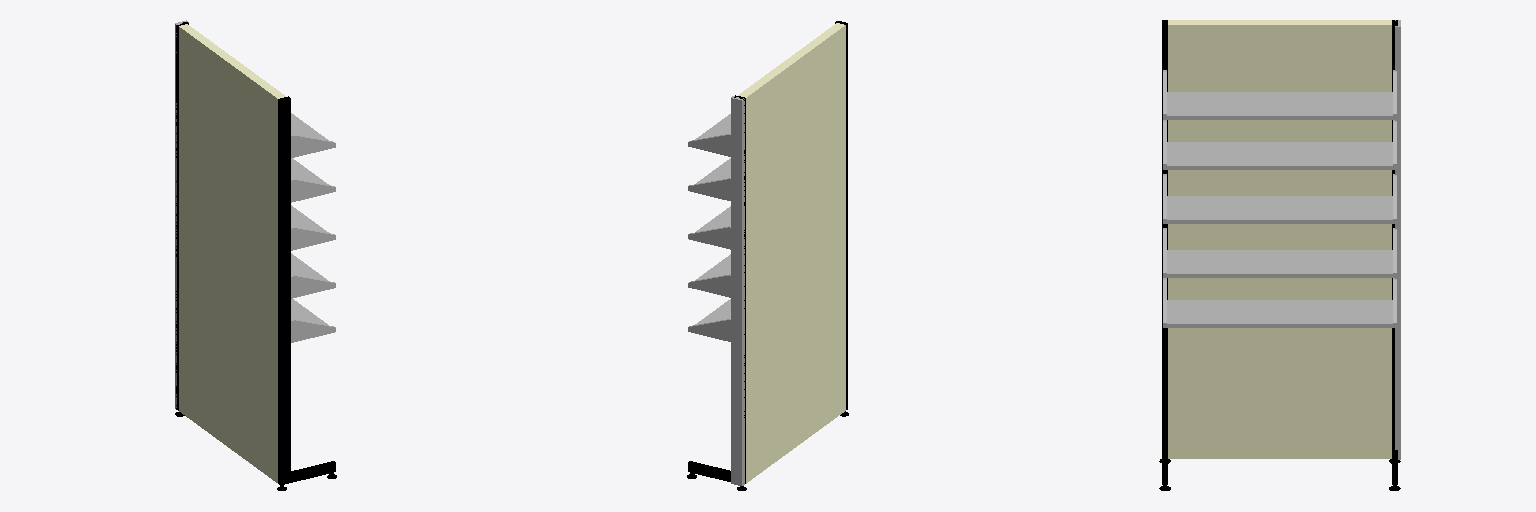
robot.urdf — bariera-1200-right_static:
<?xml version="1.0"?>
<robot name="bariera-1200-right_static"
       xmlns:xi="http://www.w3.org/2001/XInclude"
       >
  <gazebo>
    <static>true</static>
  </gazebo>
  <link name="nil_link">
    <visual>
      <origin xyz="0 0 0" rpy="0 -0 0"/>
      <geometry>
        <mesh filename="model://bariera-1200-right/meshes/nil_link_mesh.dae" scale="1 1 1" />
      </geometry>
    </visual>
    <collision>
      <origin xyz="0 0 0" rpy="0 -0 0"/>
      <geometry>
        <mesh filename="model://bariera-1200-right/meshes/nil_link_mesh.dae" scale="1 1 1" />
      </geometry>
    </collision>
    <inertial>
      <mass value="0.001" />
      <origin xyz="0 0 0" rpy="0 -0 0"/>
      <inertia ixx="1e-03" ixy="0" ixz="0" iyy="1e-03" iyz="0" izz="1e-03"/>
    </inertial>
  </link>
  <gazebo reference="nil_link">
    <mu1>0.9</mu1>
    <mu2>0.9</mu2>
  </gazebo>
</robot>

--- Render facts (derived) ---
The picture shows the robot from 3 angles, left to right: view 1: azimuth 30°, elevation 25°; view 2: azimuth 150°, elevation 25°; view 3: azimuth 270°, elevation 25°; orthographic projection.
Model bariera-1200-right_static with 1 links and 0 joints (none), rooted at nil_link, posed all joints at 0.
Visible links, largest first — view 1: nil_link; view 2: nil_link; view 3: nil_link.
Link boxes in pixels (x1,y1,x2,y2): nil_link: (175,20,336,490); nil_link: (687,21,848,490); nil_link: (1159,20,1400,490).
Bounding box of the posed robot: 0.4 × 1.26 × 2.54 m (x, y, z).
1 mesh visuals loaded from 1 distinct referenced files (1 Collada DAE).